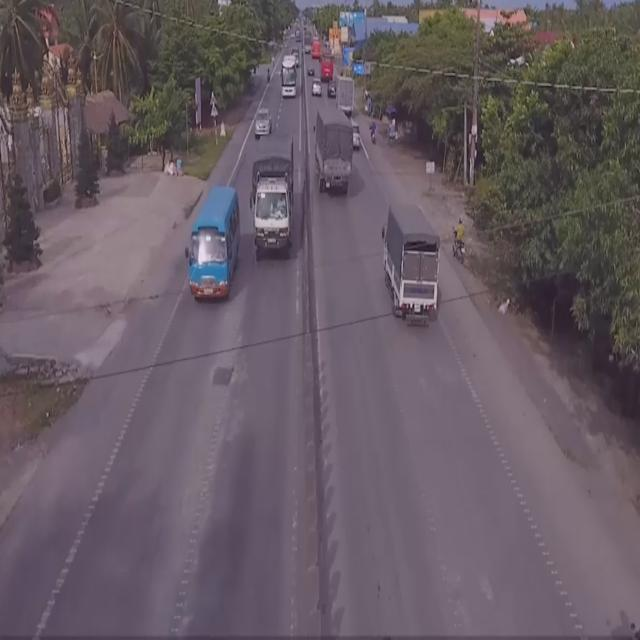bus: (187, 184, 241, 305), (282, 55, 298, 98)
car: (255, 104, 274, 136), (353, 126, 364, 156)
motorbike: (449, 216, 466, 270)
truck: (381, 203, 440, 323), (254, 133, 294, 264), (314, 108, 351, 201)
